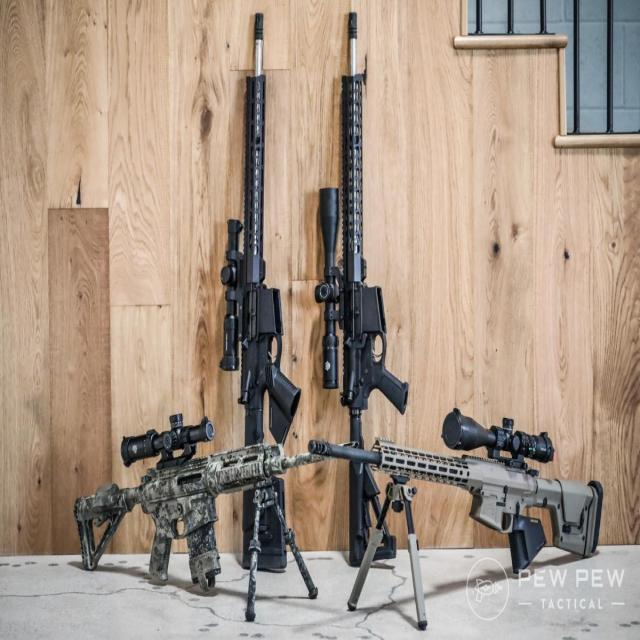Rifle: (308, 419, 603, 575), (74, 417, 313, 592), (314, 12, 409, 450), (220, 76, 301, 448)
